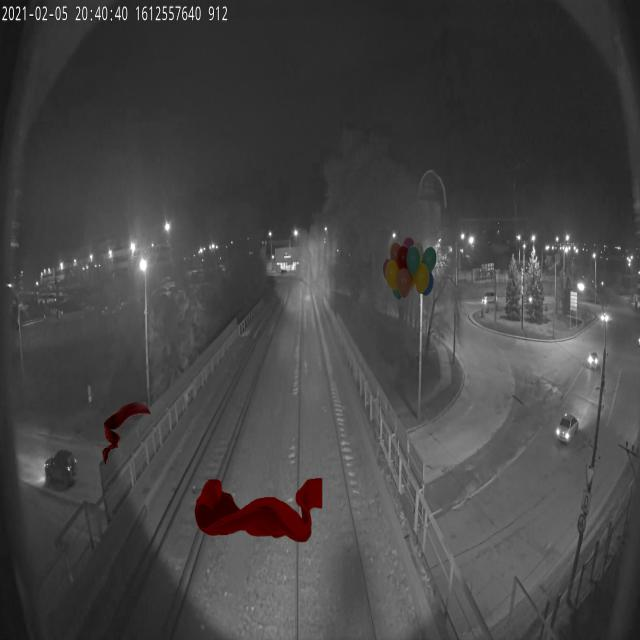balloon: (382, 236, 437, 300)
floating object: (194, 478, 323, 542), (102, 402, 151, 466)
